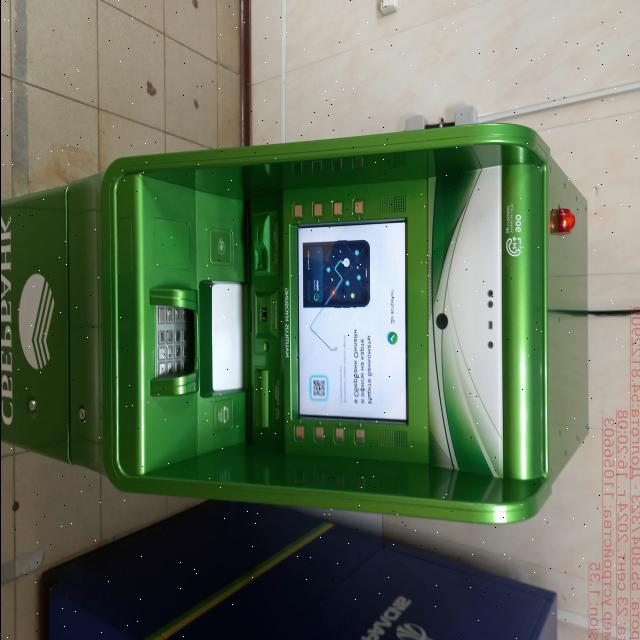bank: (0, 126, 595, 525)
